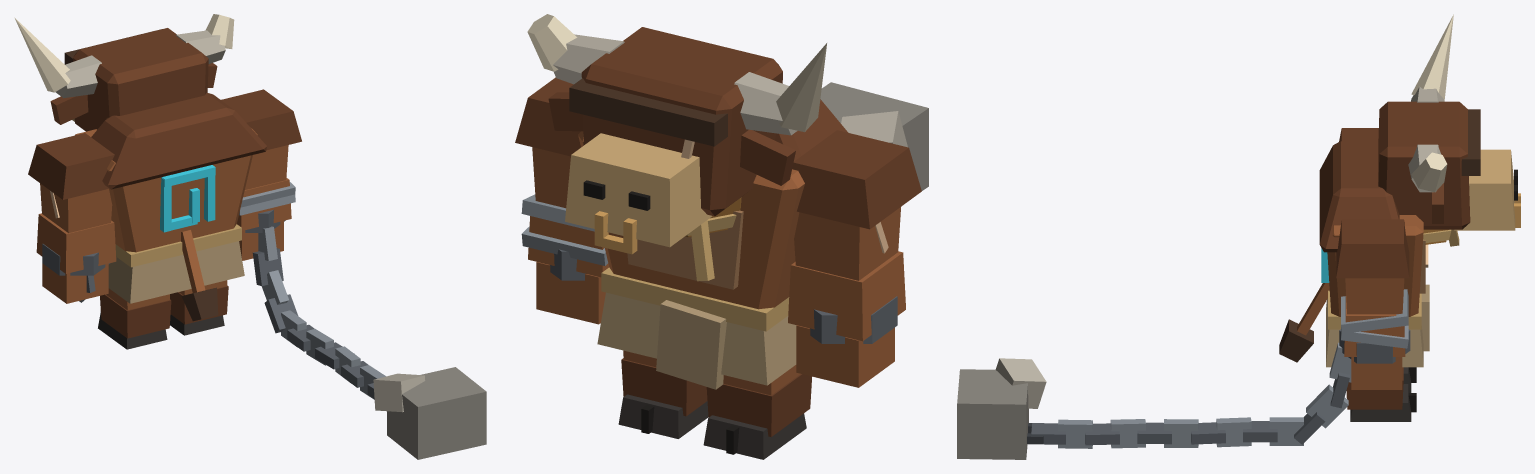
File: CH_Asterion.fbx
3 renders of one model, left to right at view 1: azimuth 30°, elevation 25°; view 2: azimuth 150°, elevation 25°; view 3: azimuth 270°, elevation 25°, orthographic. The views are drawn at different scales.
Parts seen in each view (by area): view 1: Hump, Head, ChainEnd, Body, Kilt, ShoulderFurL, ForearmL, ShoulderFurR, ArmL, ShinL, Belt, FistL (+24 smaller); view 2: Head, Snout, Body, ShoulderFurL, Kilt, ForearmL, ArmL, Brow, ChainEnd, KiltFlap, FistL, ChestFur (+23 smaller); view 3: Head, ChainEnd, Hump, ShoulderFurR, Snout, Body, ArmR, FistR, ChainSeg5, ChainSeg3, ChainSeg4, ChainSeg2 (+15 smaller).
Boxes of the visible parts, x1,y1,x2,y2 form: Hump: (91, 93, 266, 189); Head: (73, 28, 208, 131); ChainEnd: (373, 367, 486, 459); Body: (75, 128, 257, 252); Kilt: (108, 241, 244, 303); ShoulderFurL: (28, 133, 114, 199); ForearmL: (36, 213, 116, 273); ShoulderFurR: (221, 89, 301, 150); ArmL: (40, 183, 112, 233); ShinL: (100, 294, 171, 338); Belt: (115, 224, 241, 267); FistL: (42, 263, 108, 303); Head: (581, 27, 782, 216); Snout: (565, 133, 712, 247); Body: (578, 131, 804, 309); ShoulderFurL: (792, 130, 921, 229); Kilt: (597, 292, 796, 385); ForearmL: (788, 251, 905, 341); ArmL: (794, 207, 900, 280); Brow: (569, 78, 727, 146); ChainEnd: (820, 82, 928, 190); KiltFlap: (656, 300, 726, 389); FistL: (796, 325, 894, 387); ChestFur: (627, 210, 743, 289); Head: (1378, 101, 1470, 229); ChainEnd: (957, 358, 1046, 459); Hump: (1319, 141, 1399, 252); ShoulderFurR: (1336, 219, 1409, 278); Snout: (1454, 149, 1515, 230); Body: (1327, 215, 1423, 316); ArmR: (1345, 278, 1404, 314); FistR: (1351, 357, 1402, 389); ChainSeg5: (1085, 419, 1145, 448); ChainSeg3: (1191, 417, 1251, 447); ChainSeg4: (1137, 419, 1198, 447); ChainSeg2: (1243, 417, 1303, 445).
Size of the model in its own units: 1.45 by 2.77 by 1.78.
